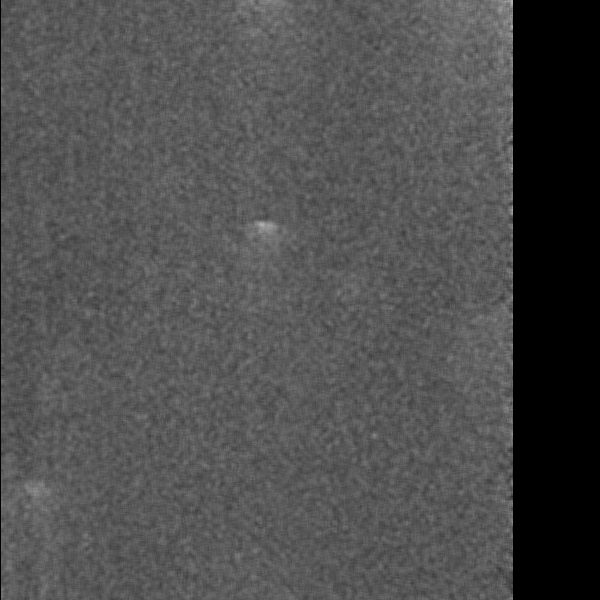spark: (245, 214, 279, 259), (21, 477, 47, 528)
